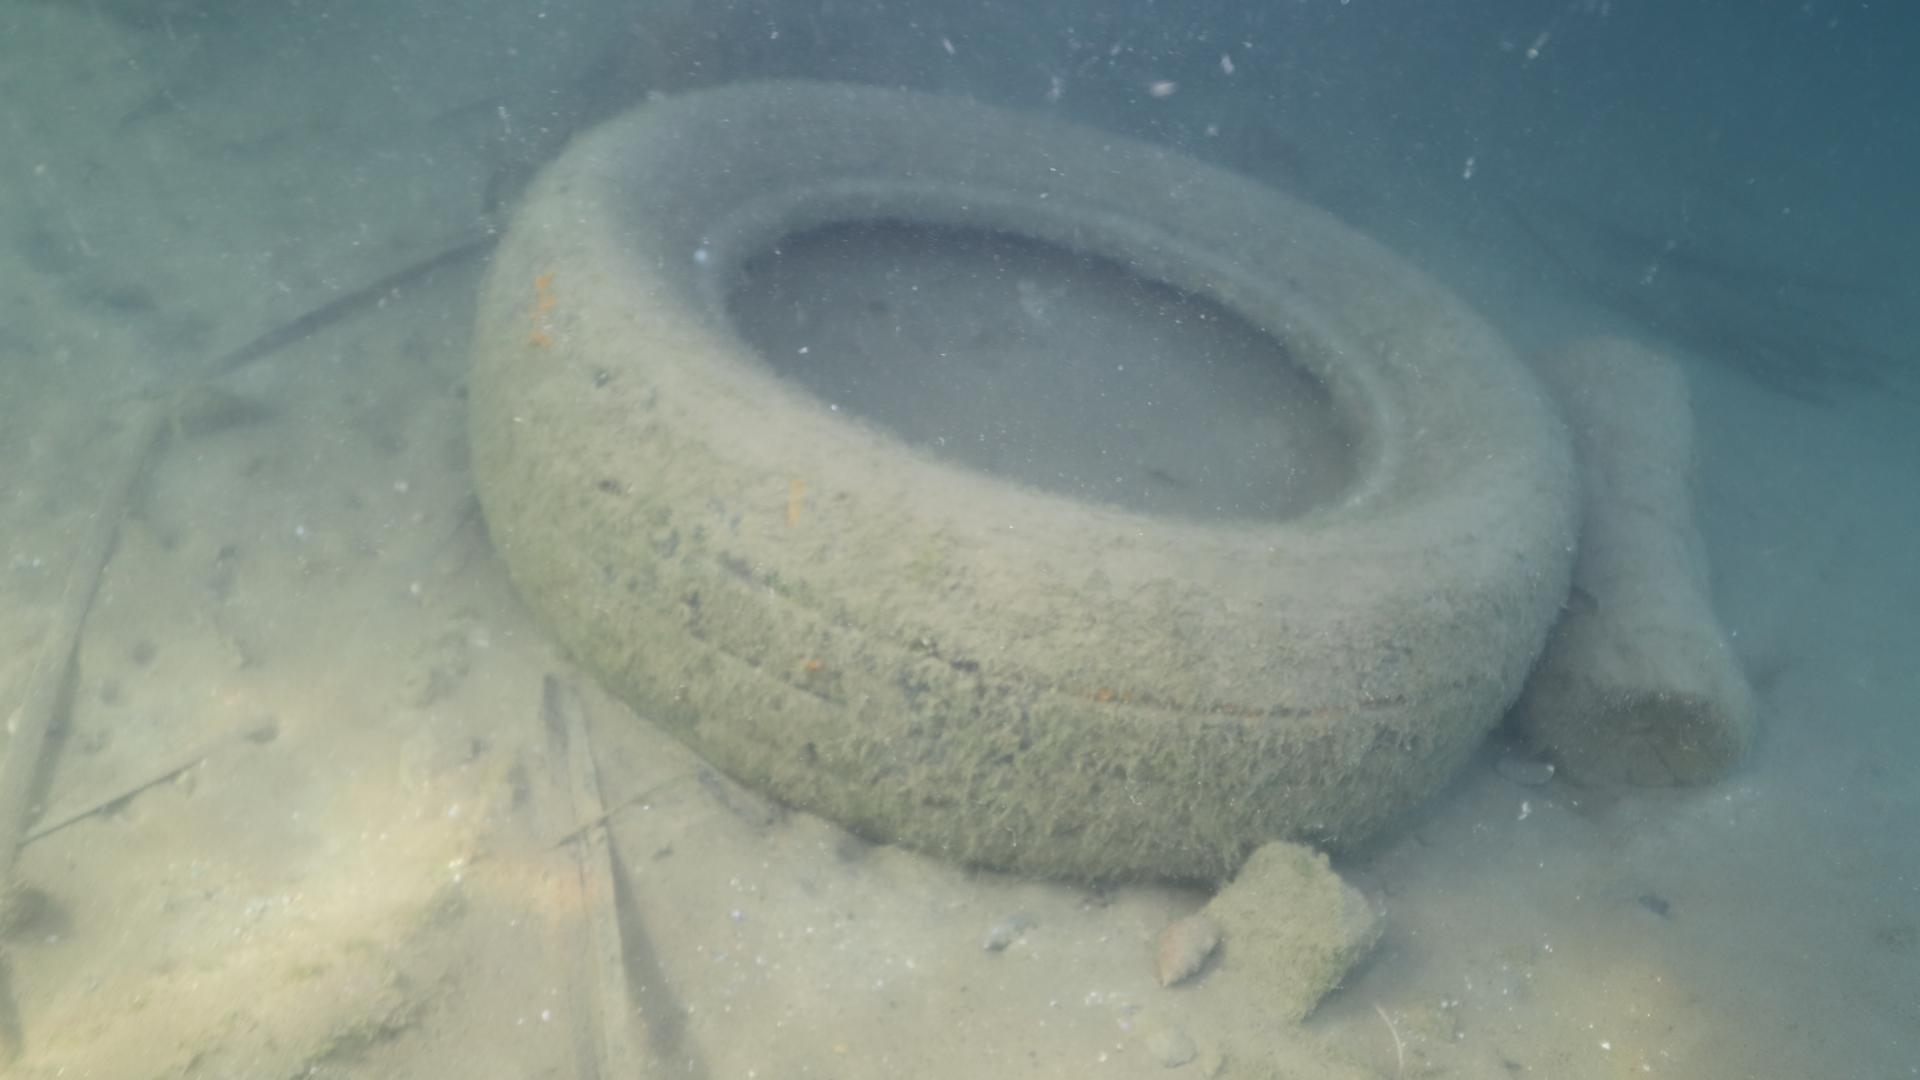tire: (464, 69, 1581, 891)
